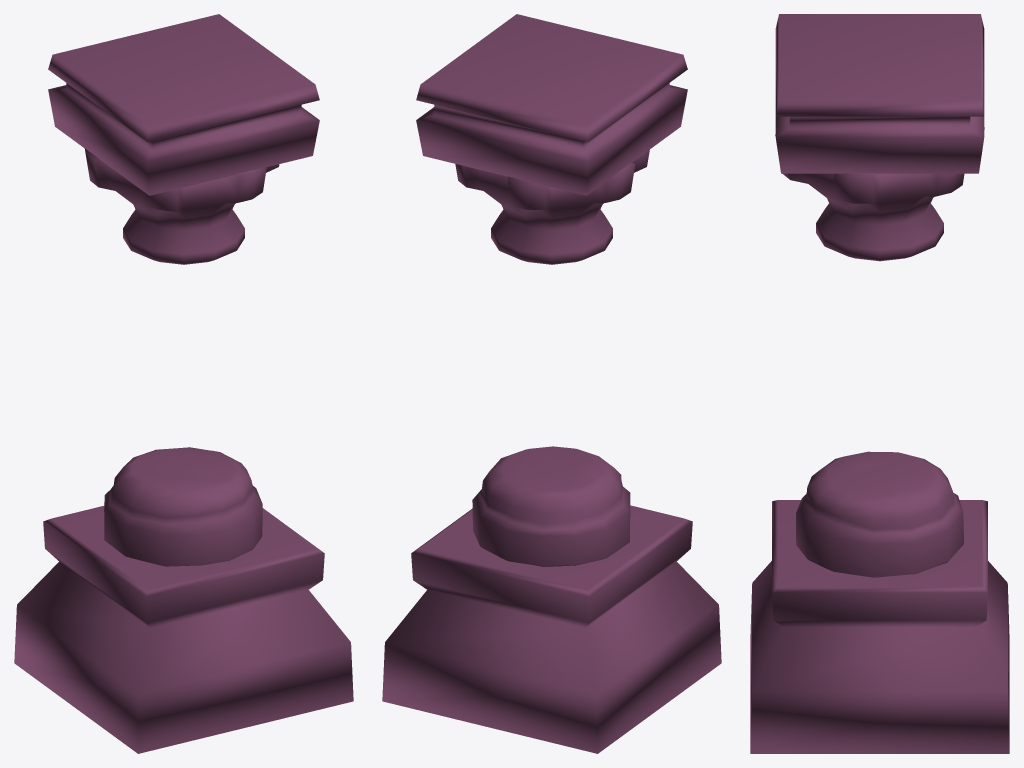
Rendered from Pillar_01_Half_Base_Lod0.fbx.
3 views of the same model, side by side, from view 1: azimuth 30°, elevation 25°; view 2: azimuth 150°, elevation 25°; view 3: azimuth 270°, elevation 25° (orthographic). The views are drawn at different scales.
Parts seen in each view (by area): view 1: Pillar_01_Half_Base_Lod0; view 2: Pillar_01_Half_Base_Lod0; view 3: Pillar_01_Half_Base_Lod0.
Boxes of the visible parts, x1=… form: Pillar_01_Half_Base_Lod0: x1=14, y1=14, x2=353, y2=753; Pillar_01_Half_Base_Lod0: x1=382, y1=14, x2=721, y2=753; Pillar_01_Half_Base_Lod0: x1=750, y1=14, x2=1009, y2=753.
Bounding box in the file's own units: 60.95 × 166 × 60.67.
